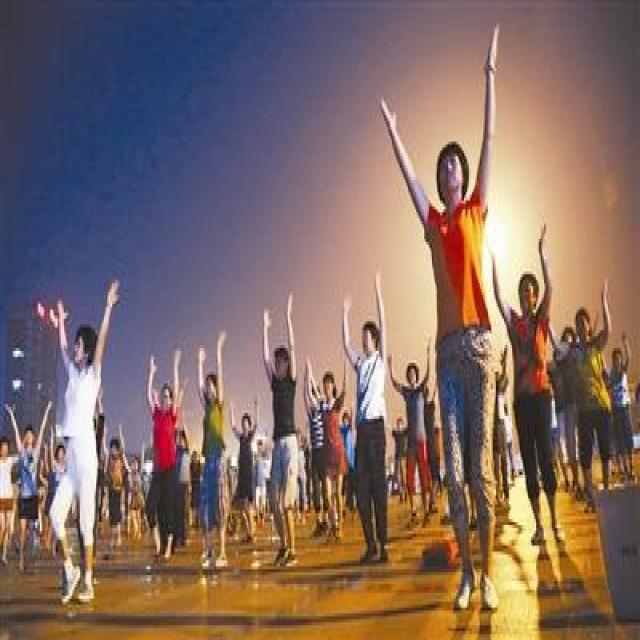non-fight: (371, 14, 503, 615), (479, 222, 568, 564), (47, 274, 122, 606), (330, 258, 400, 566), (259, 289, 300, 570), (193, 323, 232, 572)
